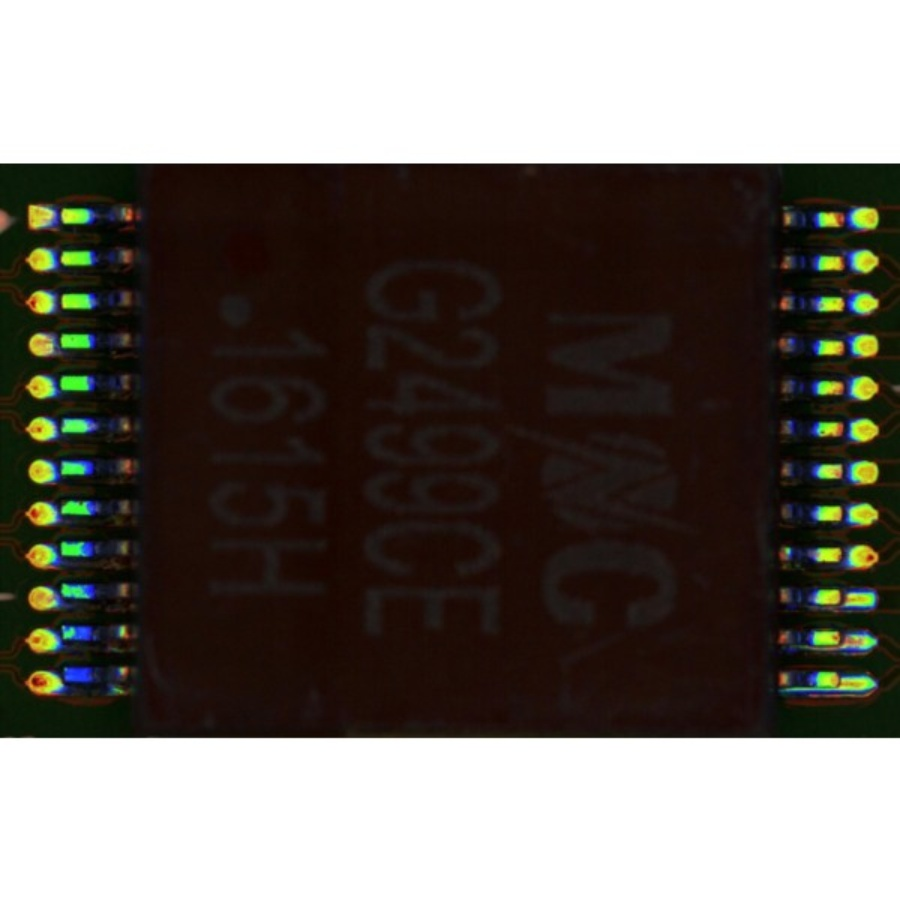Bad_podu: (828, 593, 863, 602), (826, 677, 856, 687)
Bad_qiaojiao: (778, 686, 841, 693), (828, 634, 859, 645), (795, 646, 839, 651)
